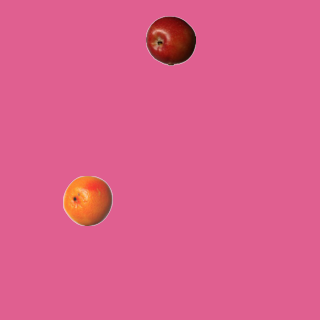Apple Braeburn: (145, 15, 195, 65)
Grapefruit Pink: (62, 175, 112, 225)
